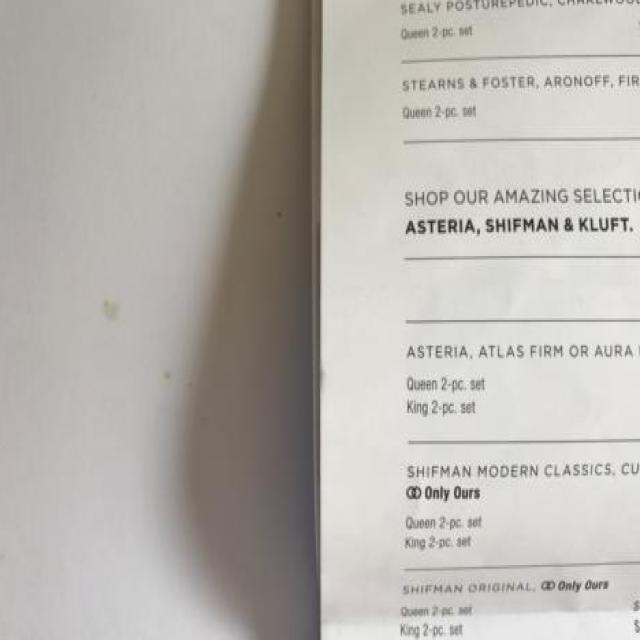kertas: (303, 0, 640, 640)
